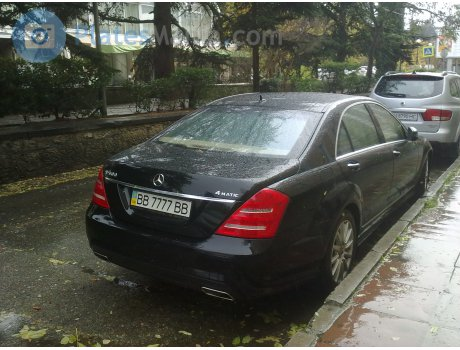car: (85, 91, 433, 299)
plate: (129, 189, 192, 217)
